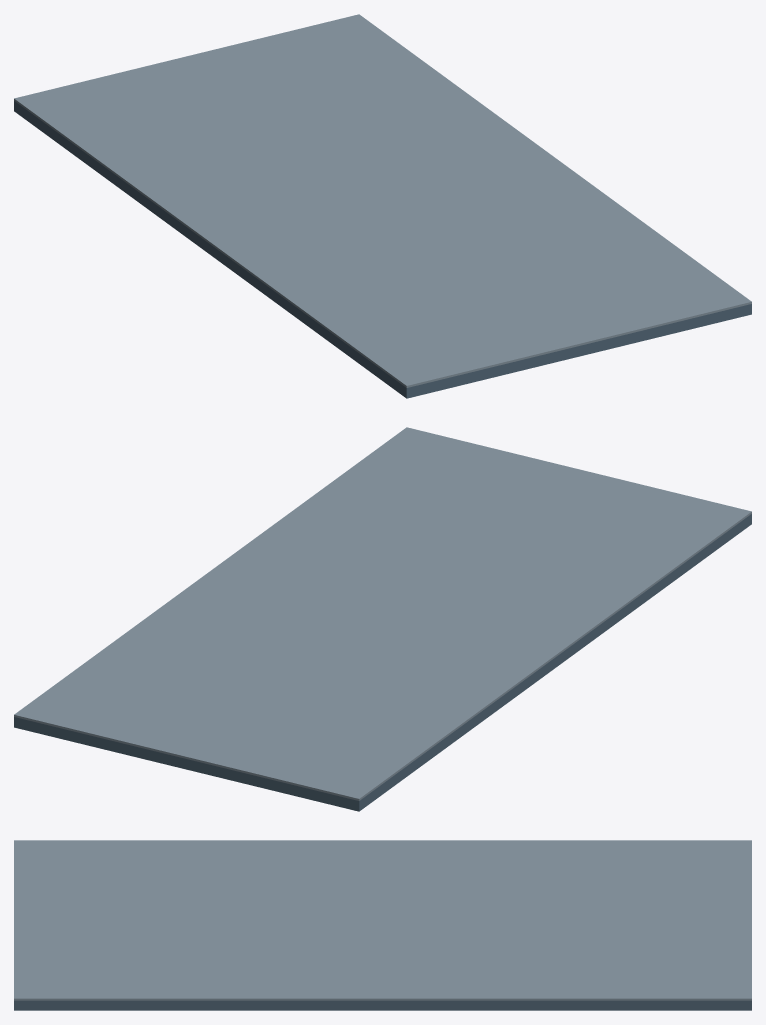
File: TS-632.00.000-47-plita-dielektricheskaya-670x340.glb
3 renders of one model, top to bottom at view 1: azimuth 30°, elevation 25°; view 2: azimuth 150°, elevation 25°; view 3: azimuth 270°, elevation 25°, orthographic. The views are drawn at different scales.
Visible parts, largest first — view 1: prokladka, plita; view 2: prokladka, plita; view 3: prokladka, plita.
Boxes of the visible parts, bbox=[...] form: prokladka: bbox=[14, 14, 751, 387]; plita: bbox=[14, 101, 751, 398]; prokladka: bbox=[14, 427, 751, 800]; plita: bbox=[14, 514, 751, 811]; prokladka: bbox=[14, 840, 751, 1000]; plita: bbox=[14, 1000, 751, 1010].
Size of the model in its own units: 340 by 12 by 670.
